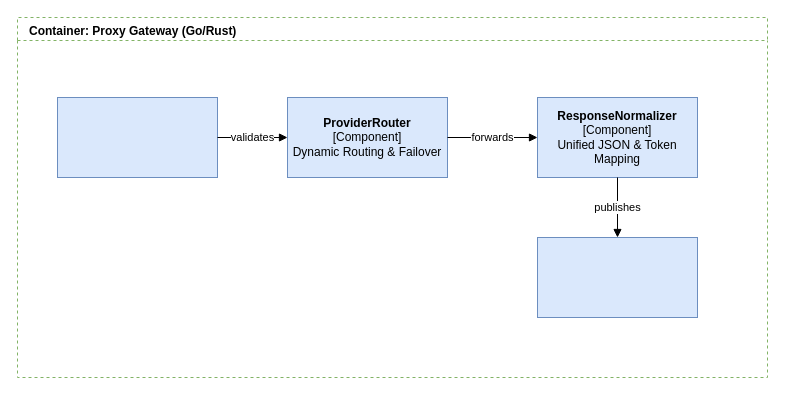
The diagram is 785 pixels wide and 395 high, and some of its shapes have lost their labels. Each missing label, with the centre of its shape:
"AsyncTelemetryEmitter [Component] Non-blocking Event Producer" belongs at point (617, 277).
"RequestValidator [Component] Schema & API Key Validation" belongs at point (137, 137).
